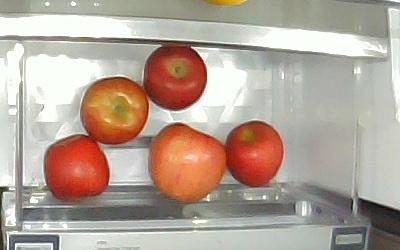apple: (149, 123, 226, 204), (80, 77, 149, 146), (43, 135, 111, 201), (143, 44, 208, 112), (226, 120, 285, 188)
